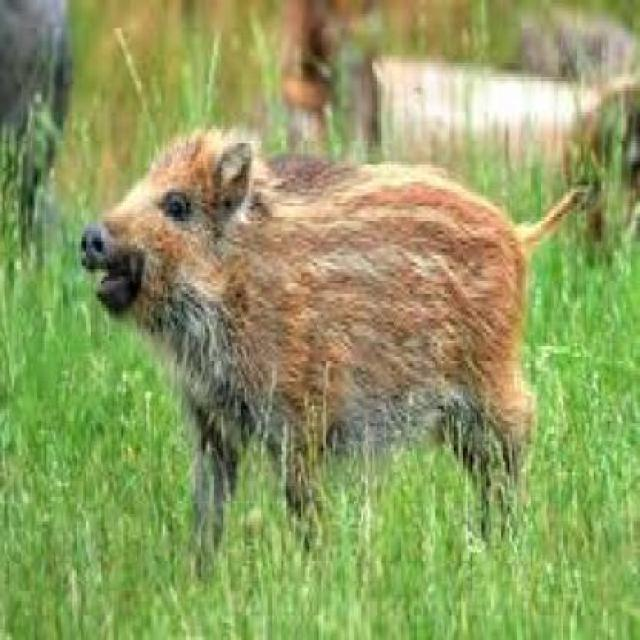wildboar: (74, 120, 595, 580)
